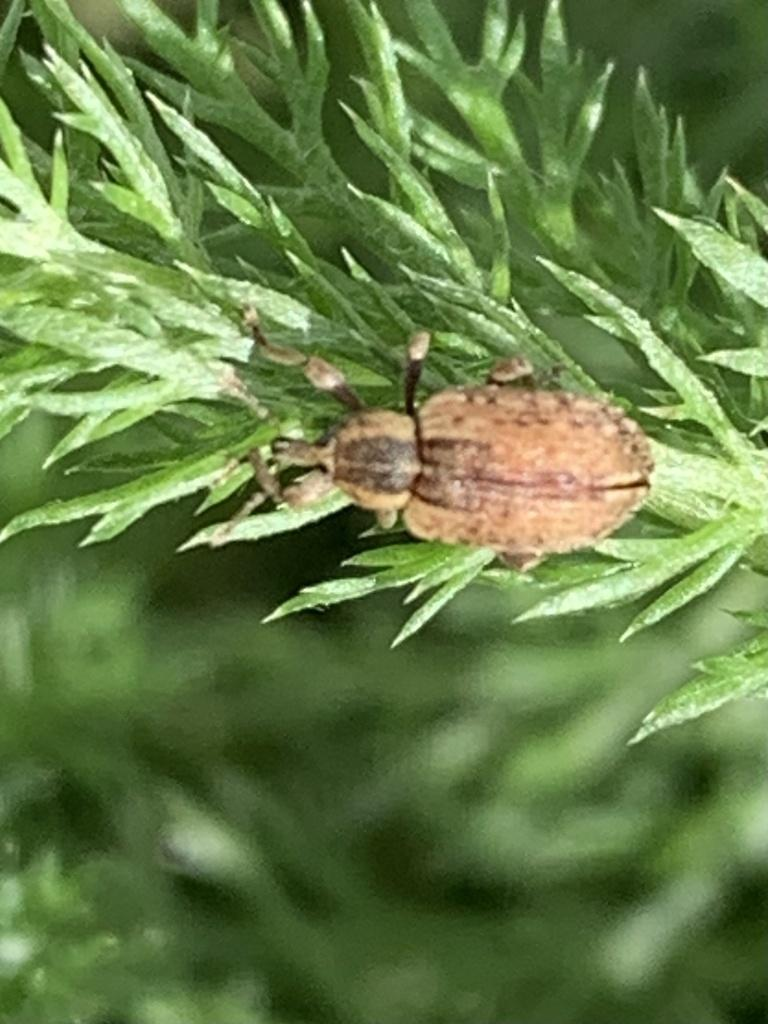weevils: (160, 256, 713, 661)
